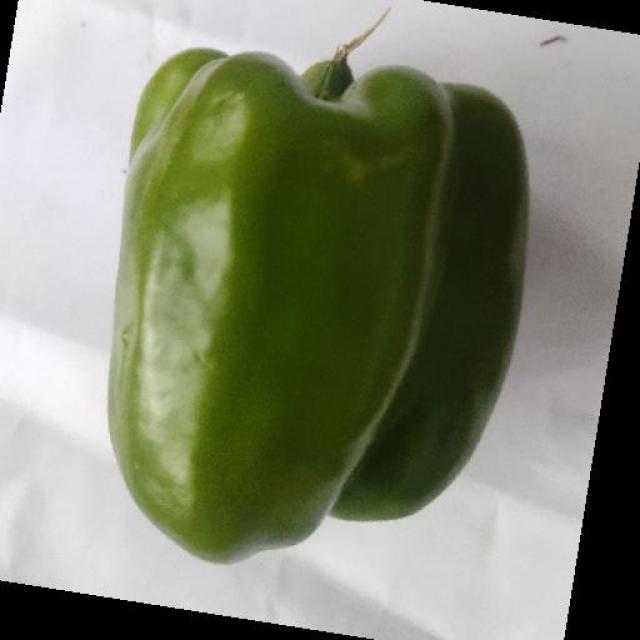Fresh_Capsicum: (112, 61, 528, 553)
